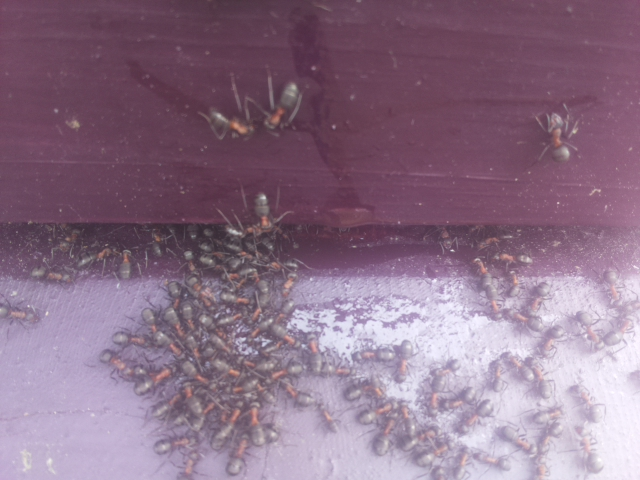ant: (91, 339, 154, 399), (199, 99, 263, 147), (160, 332, 214, 386), (203, 397, 250, 457), (260, 75, 308, 132), (508, 351, 557, 402), (560, 379, 612, 425), (567, 421, 611, 475), (219, 423, 260, 480), (538, 109, 577, 167), (469, 254, 506, 314), (244, 189, 284, 241), (492, 421, 541, 462), (180, 265, 222, 312), (137, 302, 176, 349), (368, 412, 402, 462), (148, 387, 191, 426), (244, 401, 277, 449), (388, 335, 419, 385), (69, 243, 119, 271), (149, 430, 194, 459), (279, 377, 317, 411), (302, 331, 328, 378), (355, 400, 399, 426), (573, 308, 602, 347), (602, 314, 634, 348), (414, 441, 453, 468), (0, 303, 47, 324), (473, 449, 512, 472), (265, 360, 303, 383), (540, 321, 562, 356), (527, 280, 550, 313), (602, 268, 621, 307), (57, 232, 81, 251), (437, 357, 457, 378), (320, 408, 337, 432)
